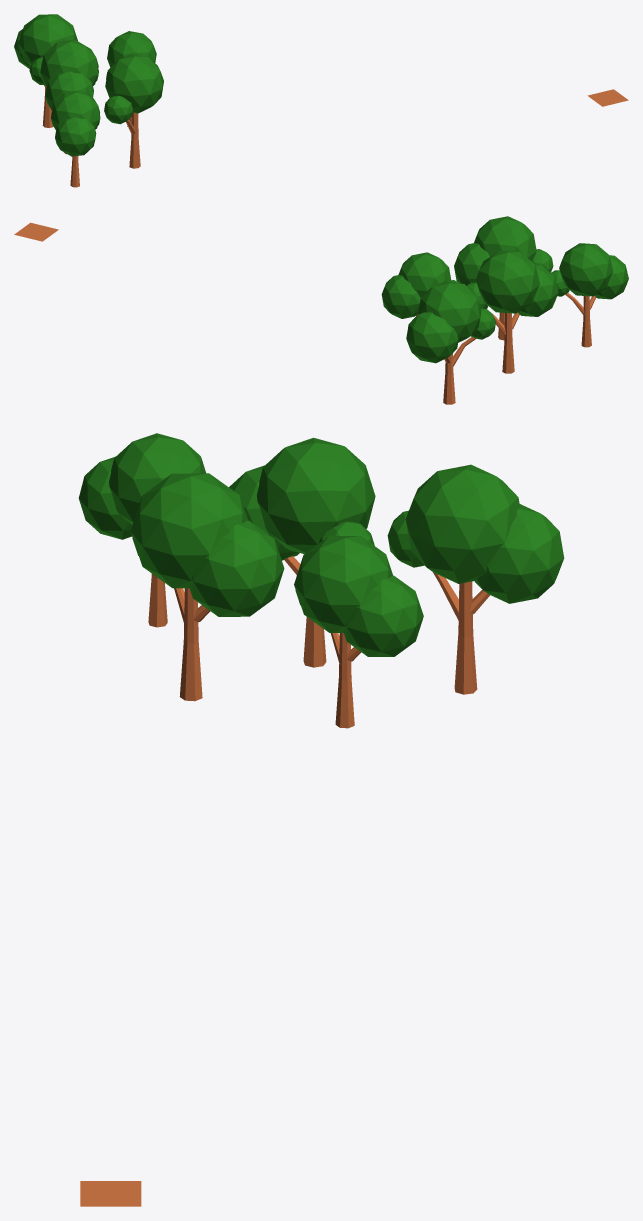
Rendered from solution_7_green_cover.fbx.
The picture shows the model from 3 angles, top to bottom: view 1: azimuth 30°, elevation 25°; view 2: azimuth 150°, elevation 25°; view 3: azimuth 270°, elevation 25°; orthographic projection. The views are drawn at different scales.
Visible parts, largest first — view 1: solution_7_green_cover; view 2: solution_7_green_cover; view 3: solution_7_green_cover.
Boxes of the visible parts, x1,y1,x2,y2 form: solution_7_green_cover: (14, 14, 628, 187); solution_7_green_cover: (14, 216, 628, 404); solution_7_green_cover: (78, 433, 564, 1206).
Size of the model in its own units: 4240 by 994 by 1589.
